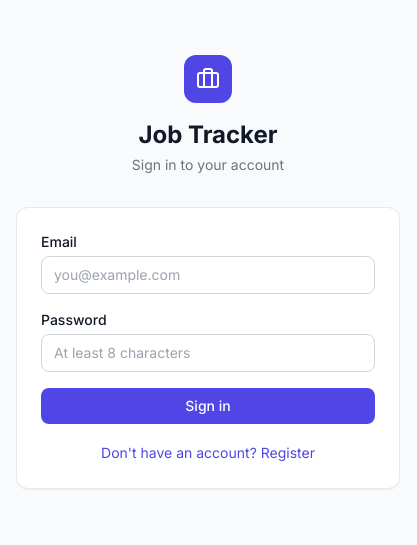
Login page › switches back to sign-in when "Already have an account?" is clicked
Expected: the text "Sign in to your account" is shown, [132, 156, 284, 173]
Click the button "Don't have an account? Register" at (208, 453), box [101, 443, 315, 463]
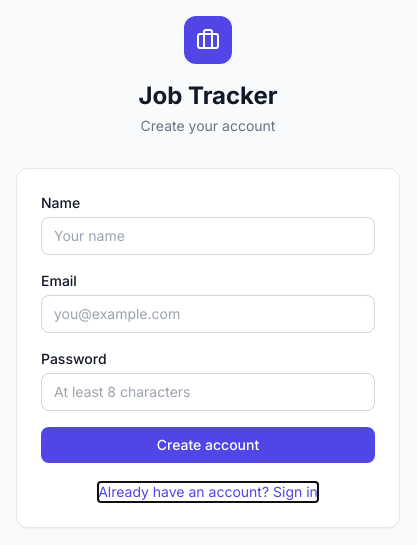
Click the button "Already have an account? Sign in" at (208, 492), box [98, 482, 318, 502]
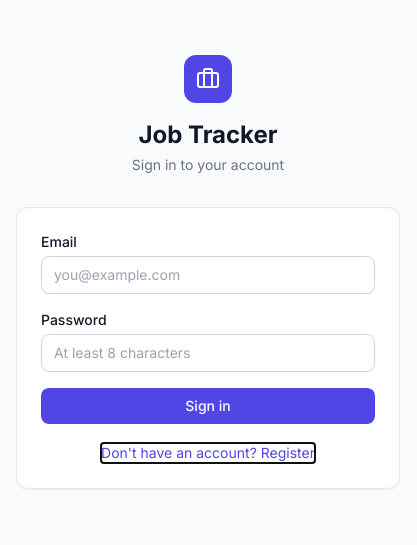
Now the text "Sign in to your account" is shown, box [132, 156, 284, 173]
Now the label labelled "Name" is gone
